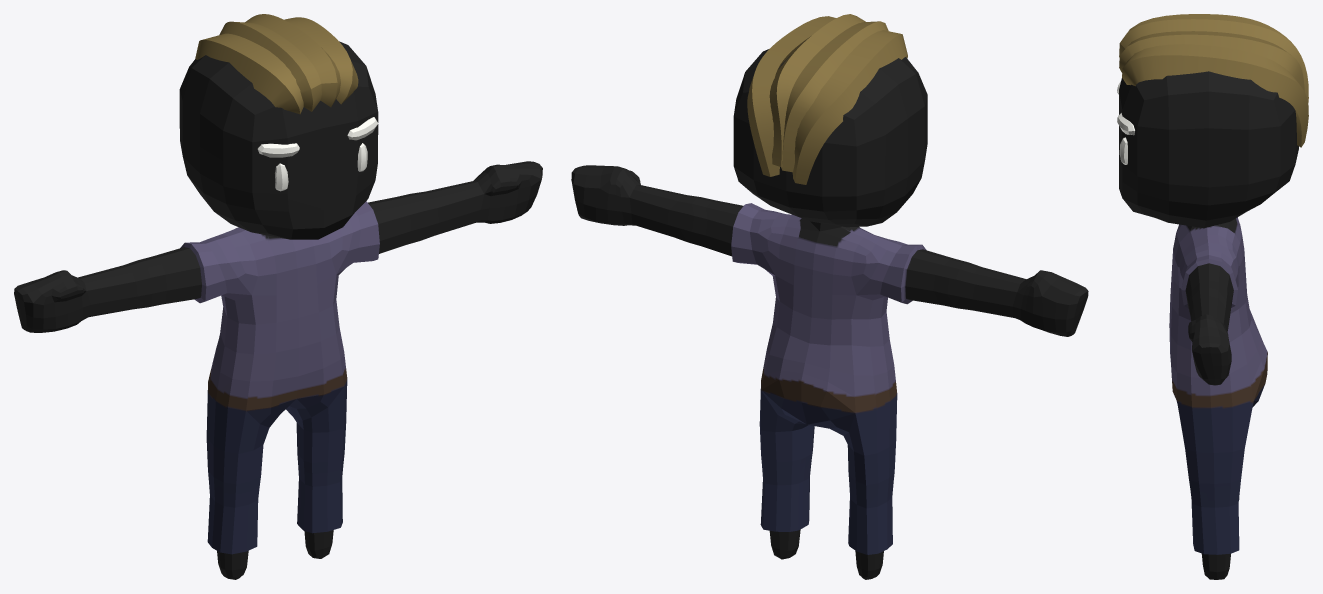
Rendered from Casual2_Male.fbx.
The picture shows the model from 3 angles, left to right: view 1: azimuth 30°, elevation 25°; view 2: azimuth 150°, elevation 25°; view 3: azimuth 270°, elevation 25°; orthographic projection. The views are drawn at different scales.
Visible parts, largest first — view 1: Body; view 2: Body; view 3: Body.
Part boxes in pixels (x1,y1,x2,y2): Body: (14, 14, 542, 579); Body: (571, 14, 1088, 579); Body: (1117, 14, 1308, 579).
Bounding box in the file's own units: 324 × 320 × 105.
Materials: 1 (1 with a texture image).
